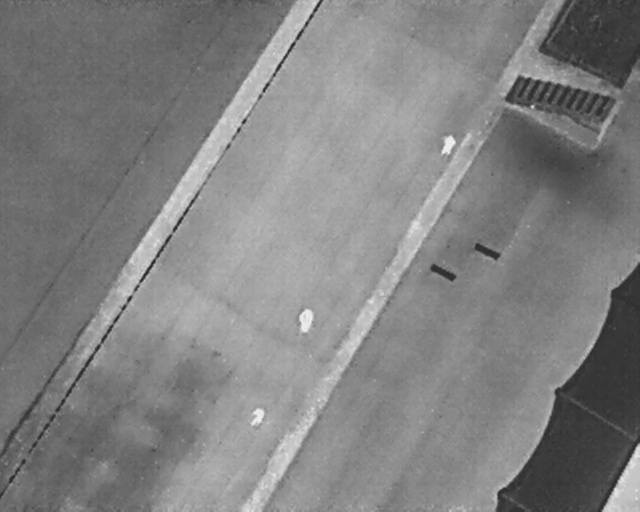Person: (438, 132, 459, 160), (295, 306, 316, 334), (248, 406, 267, 429)
